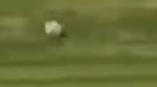ball: (41, 17, 69, 41)
